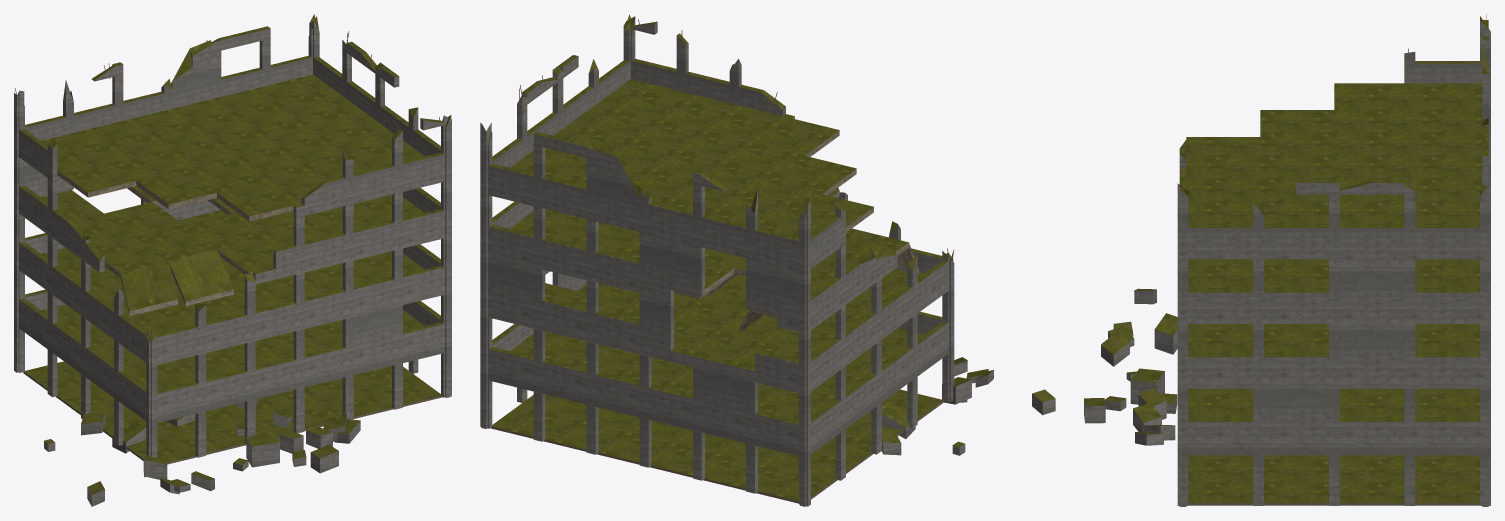
Rendered from bld_a.gltf.
3 renders of one model, left to right at view 1: azimuth 30°, elevation 25°; view 2: azimuth 150°, elevation 25°; view 3: azimuth 270°, elevation 25°, orthographic. The views are drawn at different scales.
Visible parts, largest first — view 1: bld_a; view 2: bld_a; view 3: bld_a.
Part boxes in pixels (<box>): bld_a: <box>14,14,451,506</box>; bld_a: <box>480,14,1055,506</box>; bld_a: <box>1084,14,1490,506</box>.
Size of the model in its own units: 23.11 by 17.52 by 18.83.
